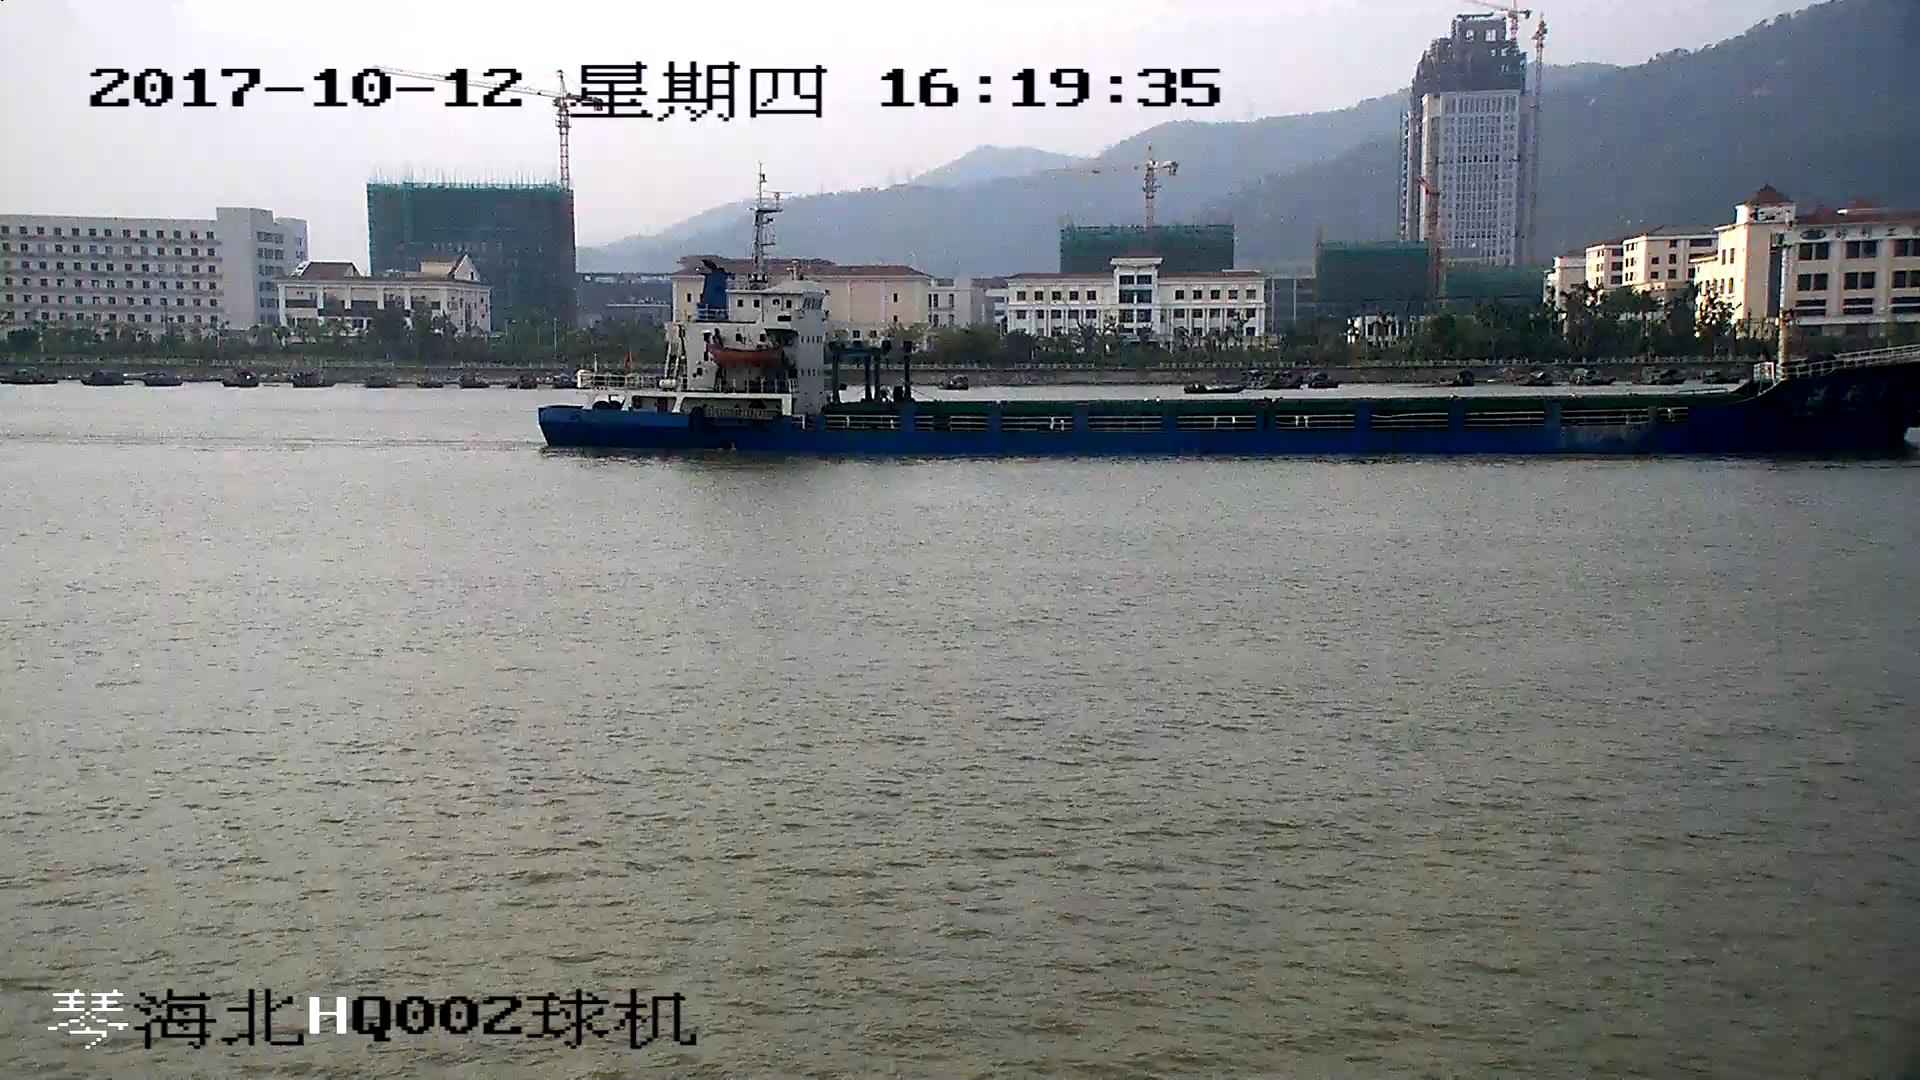general cargo ship: (537, 186, 1920, 457)
